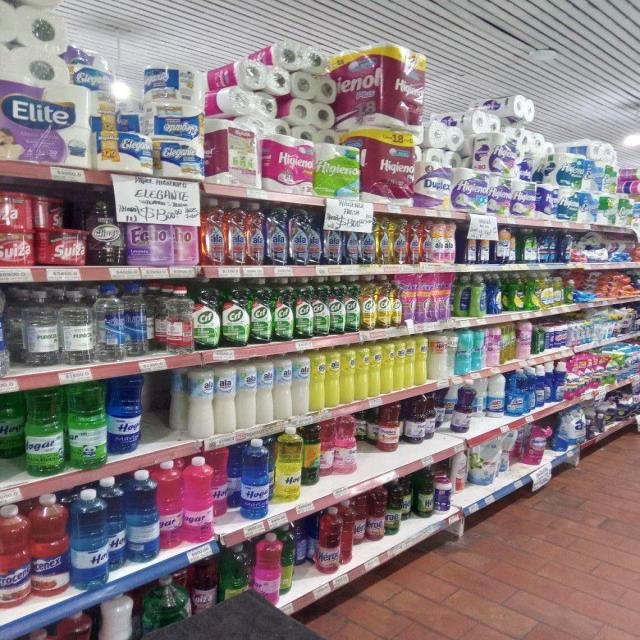ala_conc_amarillo: (376, 216, 392, 264), (392, 217, 407, 264)
ala_conc_azul: (266, 205, 288, 266), (289, 208, 308, 266), (323, 214, 342, 265), (308, 210, 322, 266), (359, 216, 375, 265), (344, 217, 358, 265)
ala_conc_rojo: (201, 198, 226, 266), (227, 200, 246, 266), (247, 202, 266, 266), (408, 218, 421, 264)
ala_crem_amarillo: (310, 349, 325, 412), (326, 347, 340, 407), (341, 345, 355, 405), (356, 342, 369, 400), (382, 338, 394, 394), (416, 333, 428, 385), (370, 341, 381, 396), (395, 336, 406, 391), (406, 334, 416, 388)
ala_crem_blanco: (186, 364, 214, 438), (214, 362, 236, 433), (237, 361, 256, 429), (274, 356, 292, 420), (292, 353, 310, 416), (257, 358, 274, 424)
cif_conc_bot_amarilla: (361, 275, 375, 331), (376, 274, 390, 328), (391, 274, 401, 328)
cif_conc_botella_verde: (194, 280, 220, 350), (222, 280, 248, 347), (250, 278, 272, 344), (274, 277, 293, 341), (294, 277, 312, 339), (313, 276, 329, 337), (329, 276, 344, 335), (345, 275, 360, 332)
